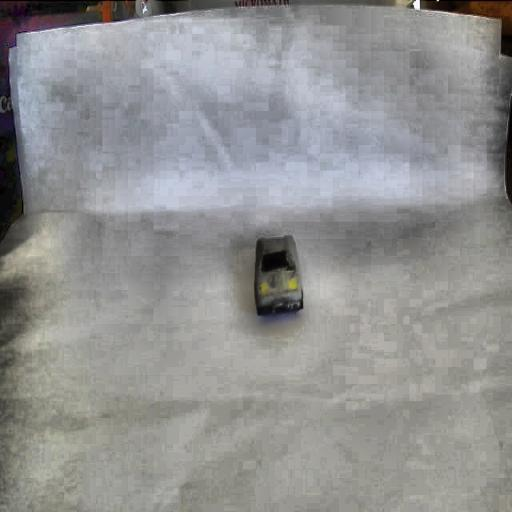normal_car: (251, 234, 307, 319)
